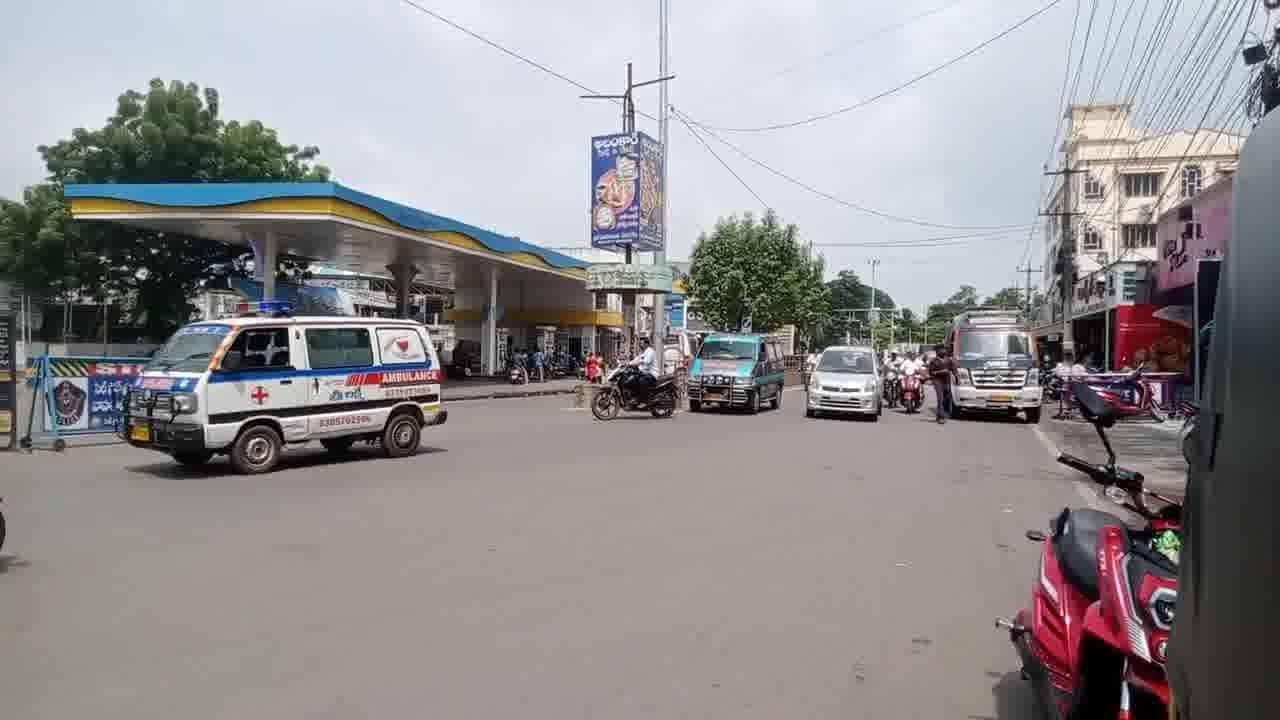AMBULANCE: (126, 301, 477, 496), (930, 306, 1062, 423), (686, 323, 797, 440)
